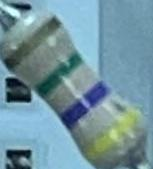Blue: (60, 79, 113, 131)
Green: (34, 50, 85, 101)
Side-Silver: (1, 13, 66, 74)
Yellow: (77, 102, 146, 164)
